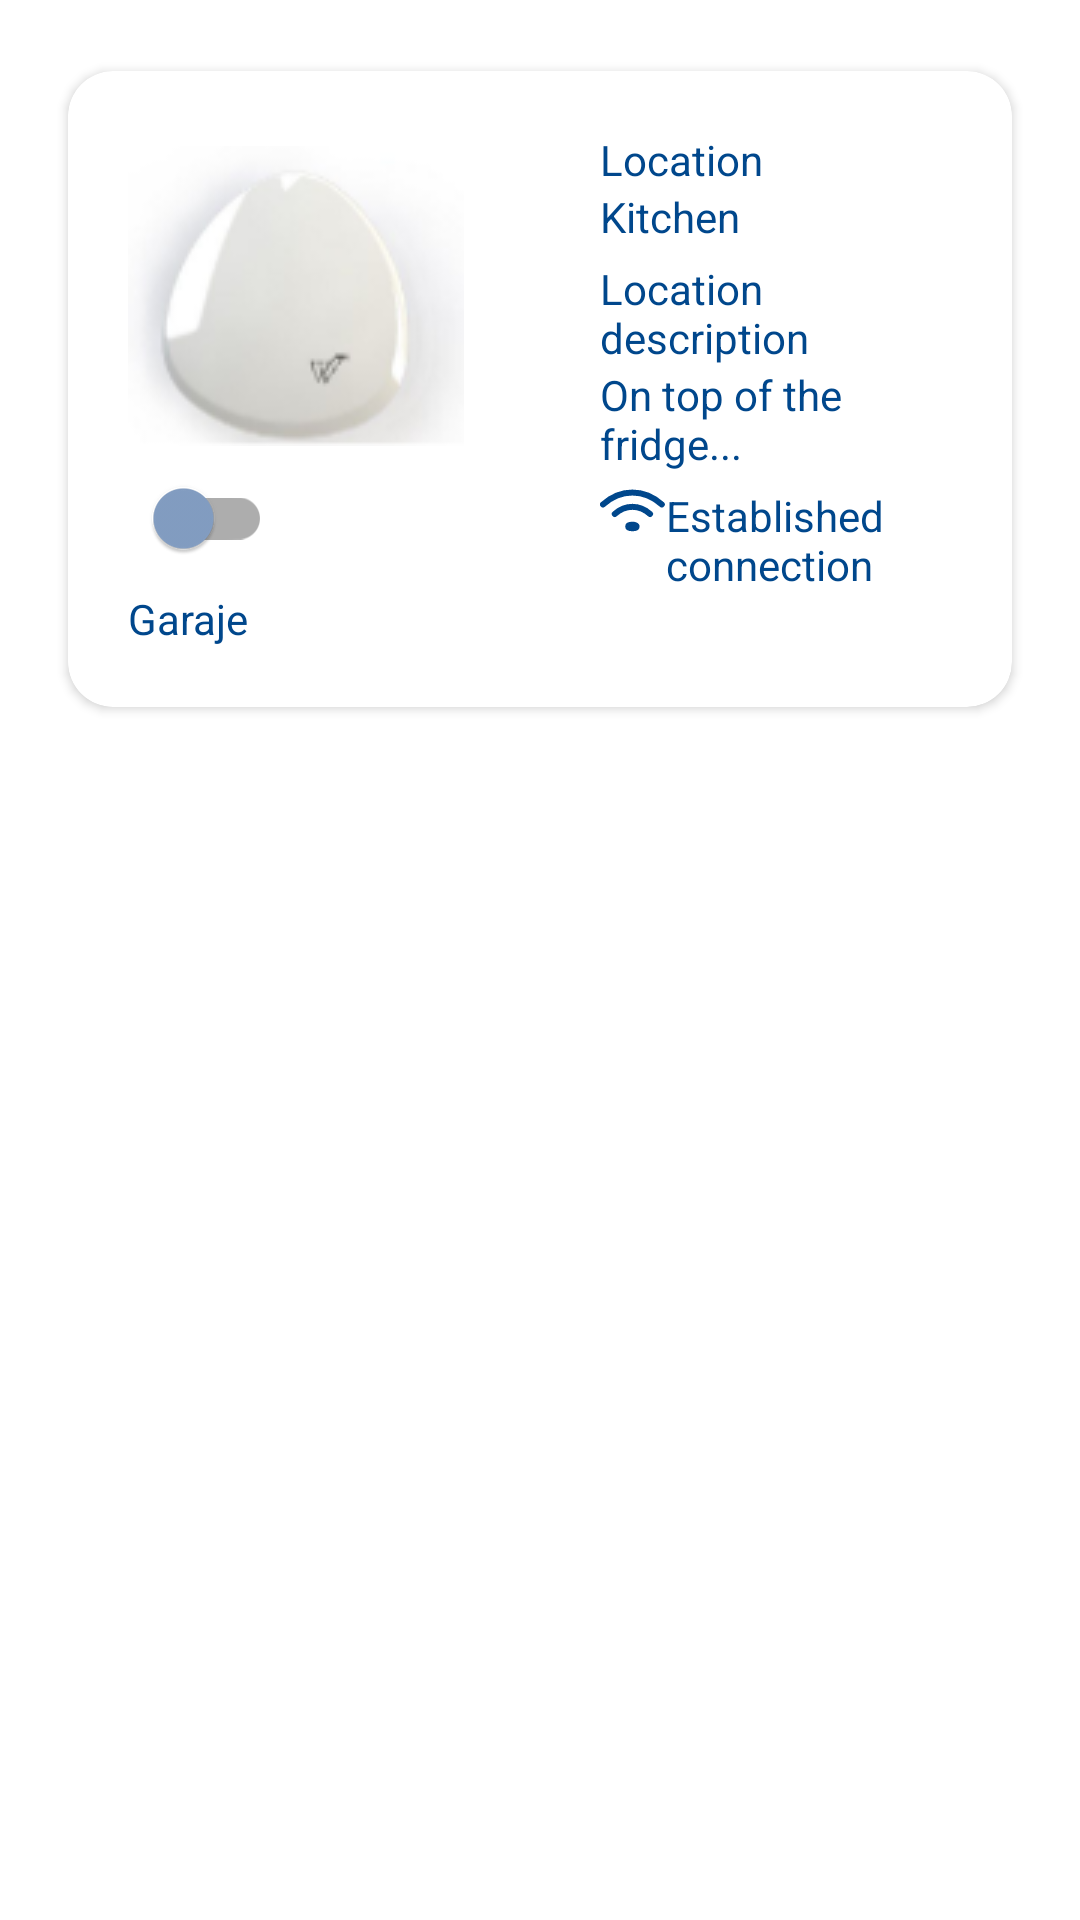

Where to tap for icons on this 1080 × 1920 app screen, as (x=x, y=y):
hadware dispositivo: (x=286, y=314)
wifi on: (x=632, y=510)
